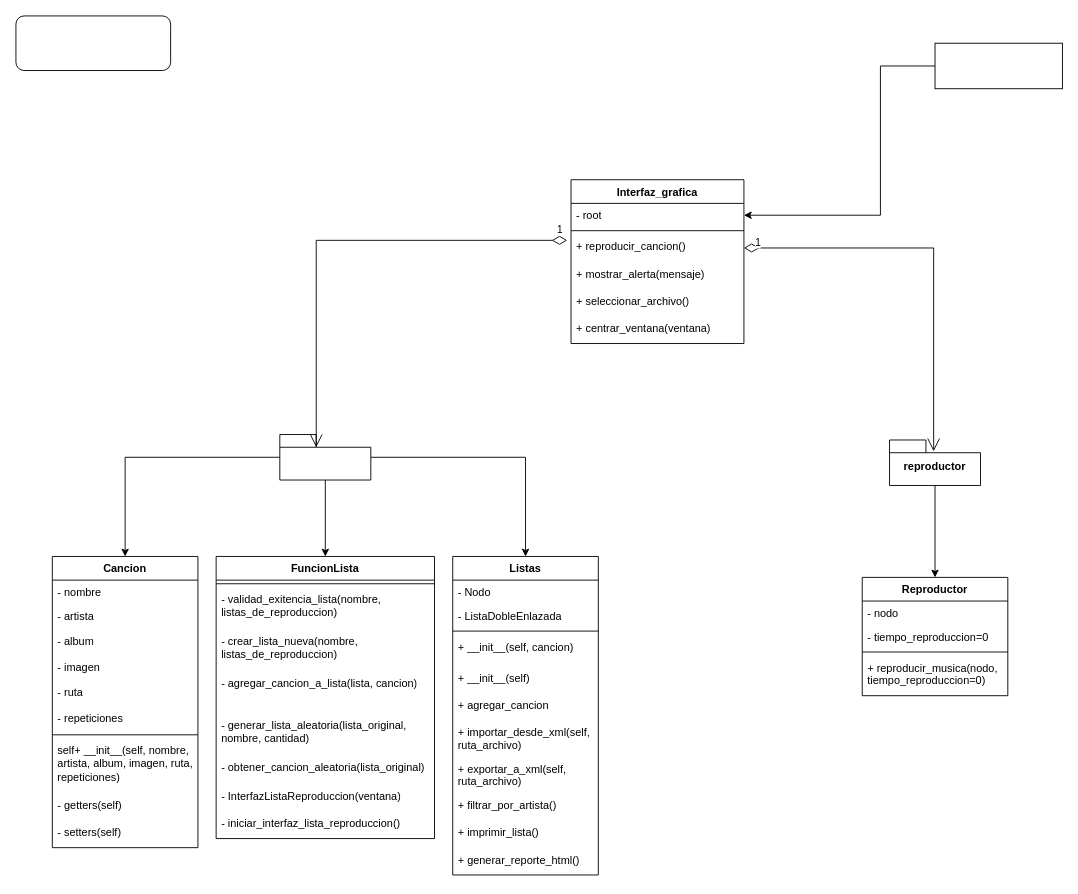
This 1078x894 diagram has some shape labels left out. The shapes that lost their labels are listed below. From the top down, each one's centre as x and y in pixels, then its label:
At point (93, 43): "DIAGRAMA DE CLASES".
At point (998, 65): "pruebadeddatos.xml".
At point (325, 457): "importacion".
